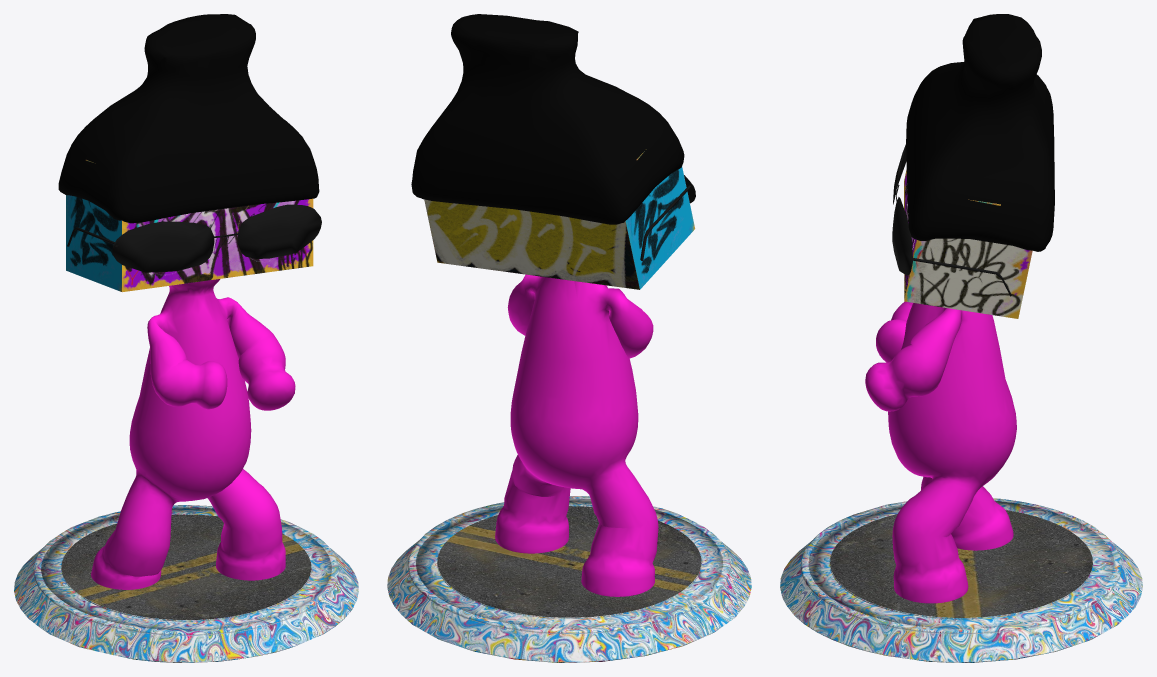
The picture shows the model from 3 angles, left to right: view 1: azimuth 30°, elevation 25°; view 2: azimuth 150°, elevation 25°; view 3: azimuth 270°, elevation 25°; orthographic projection. The views are drawn at different scales.
Visible parts, largest first — view 1: BBody; view 2: BBody; view 3: BBody.
Boxes of the visible parts, <box> form: BBody: <box>14,14,358,662</box>; BBody: <box>387,14,751,662</box>; BBody: <box>780,14,1142,662</box>.
Size of the model in its own units: 1.45 by 2.5 by 1.45.
6 materials, 3 textured.
